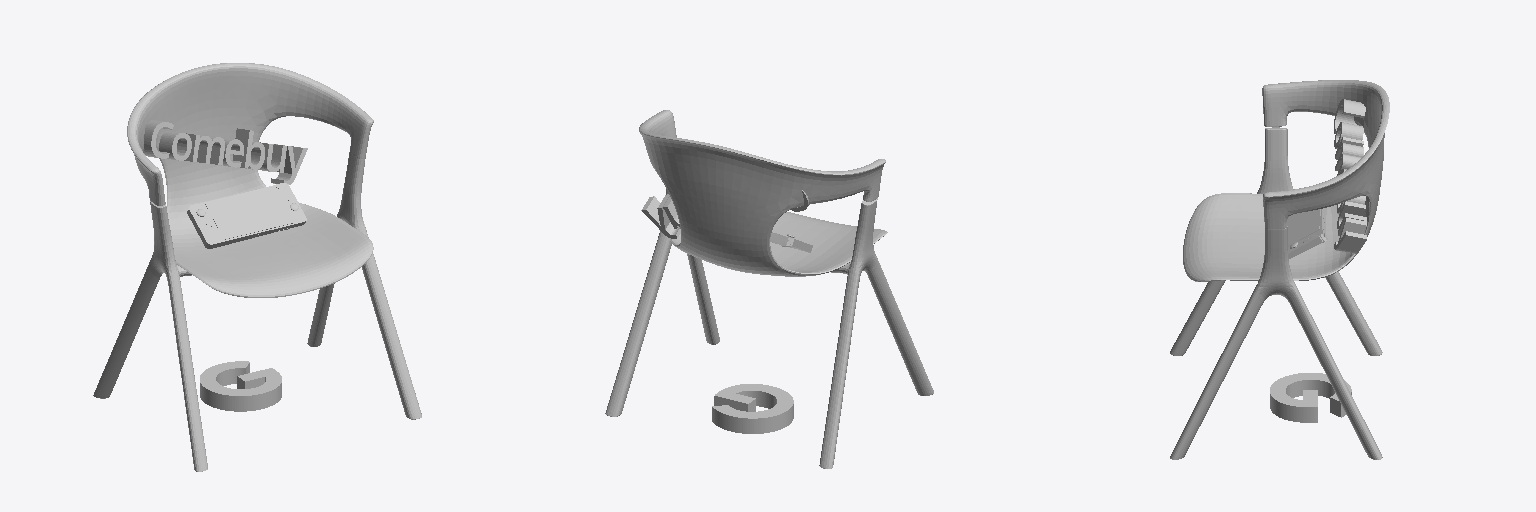
3 renders of one model, left to right at view 1: azimuth 30°, elevation 25°; view 2: azimuth 150°, elevation 25°; view 3: azimuth 270°, elevation 25°, orthographic.
Parts seen in each view (by area): view 1: 008_Seat, 007_Bottom, 011_Buffer_Layer, 057_Path, 002_3D_Text_-_m, 004_3D_Text_-_b, 059_Path, 001_3D_Text_-_o, 012_Buffer_Layer, 006_3D_Text_-_y, 010_Buffer_Layer, 056_Path (+3 smaller); view 2: 008_Seat, 007_Bottom, 059_Path, 056_Path, 006_3D_Text_-_y, 057_Path; view 3: 008_Seat, 007_Bottom, 056_Path, 006_3D_Text_-_y, 057_Path, 002_3D_Text_-_m, 011_Buffer_Layer, 000_3D_Text_-_C, 059_Path.
Boxes of the visible parts, <box> form: 008_Seat: <box>127,63,373,297</box>; 007_Bottom: <box>93,152,421,471</box>; 011_Buffer_Layer: <box>211,190,287,235</box>; 057_Path: <box>218,383,280,411</box>; 002_3D_Text_-_m: <box>184,133,224,165</box>; 004_3D_Text_-_b: <box>233,128,264,169</box>; 059_Path: <box>200,361,249,385</box>; 001_3D_Text_-_o: <box>159,131,191,160</box>; 012_Buffer_Layer: <box>187,203,222,248</box>; 006_3D_Text_-_y: <box>271,144,307,184</box>; 010_Buffer_Layer: <box>205,187,292,239</box>; 056_Path: <box>237,368,281,397</box>; 008_Seat: <box>639,110,887,276</box>; 007_Bottom: <box>605,189,933,468</box>; 059_Path: <box>712,405,774,433</box>; 056_Path: <box>714,384,755,411</box>; 006_3D_Text_-_y: <box>641,194,680,238</box>; 057_Path: <box>744,384,793,408</box>; 008_Seat: <box>1183,80,1389,281</box>; 007_Bottom: <box>1170,127,1382,459</box>; 056_Path: <box>1280,390,1317,422</box>; 006_3D_Text_-_y: <box>1334,217,1366,253</box>; 057_Path: <box>1270,375,1302,417</box>; 002_3D_Text_-_m: <box>1335,137,1363,175</box>; 011_Buffer_Layer: <box>1287,210,1317,243</box>; 000_3D_Text_-_C: <box>1334,99,1365,133</box>; 059_Path: <box>1319,376,1351,417</box>.
Size of the model in its own units: 76.42 by 96.58 by 64.26.